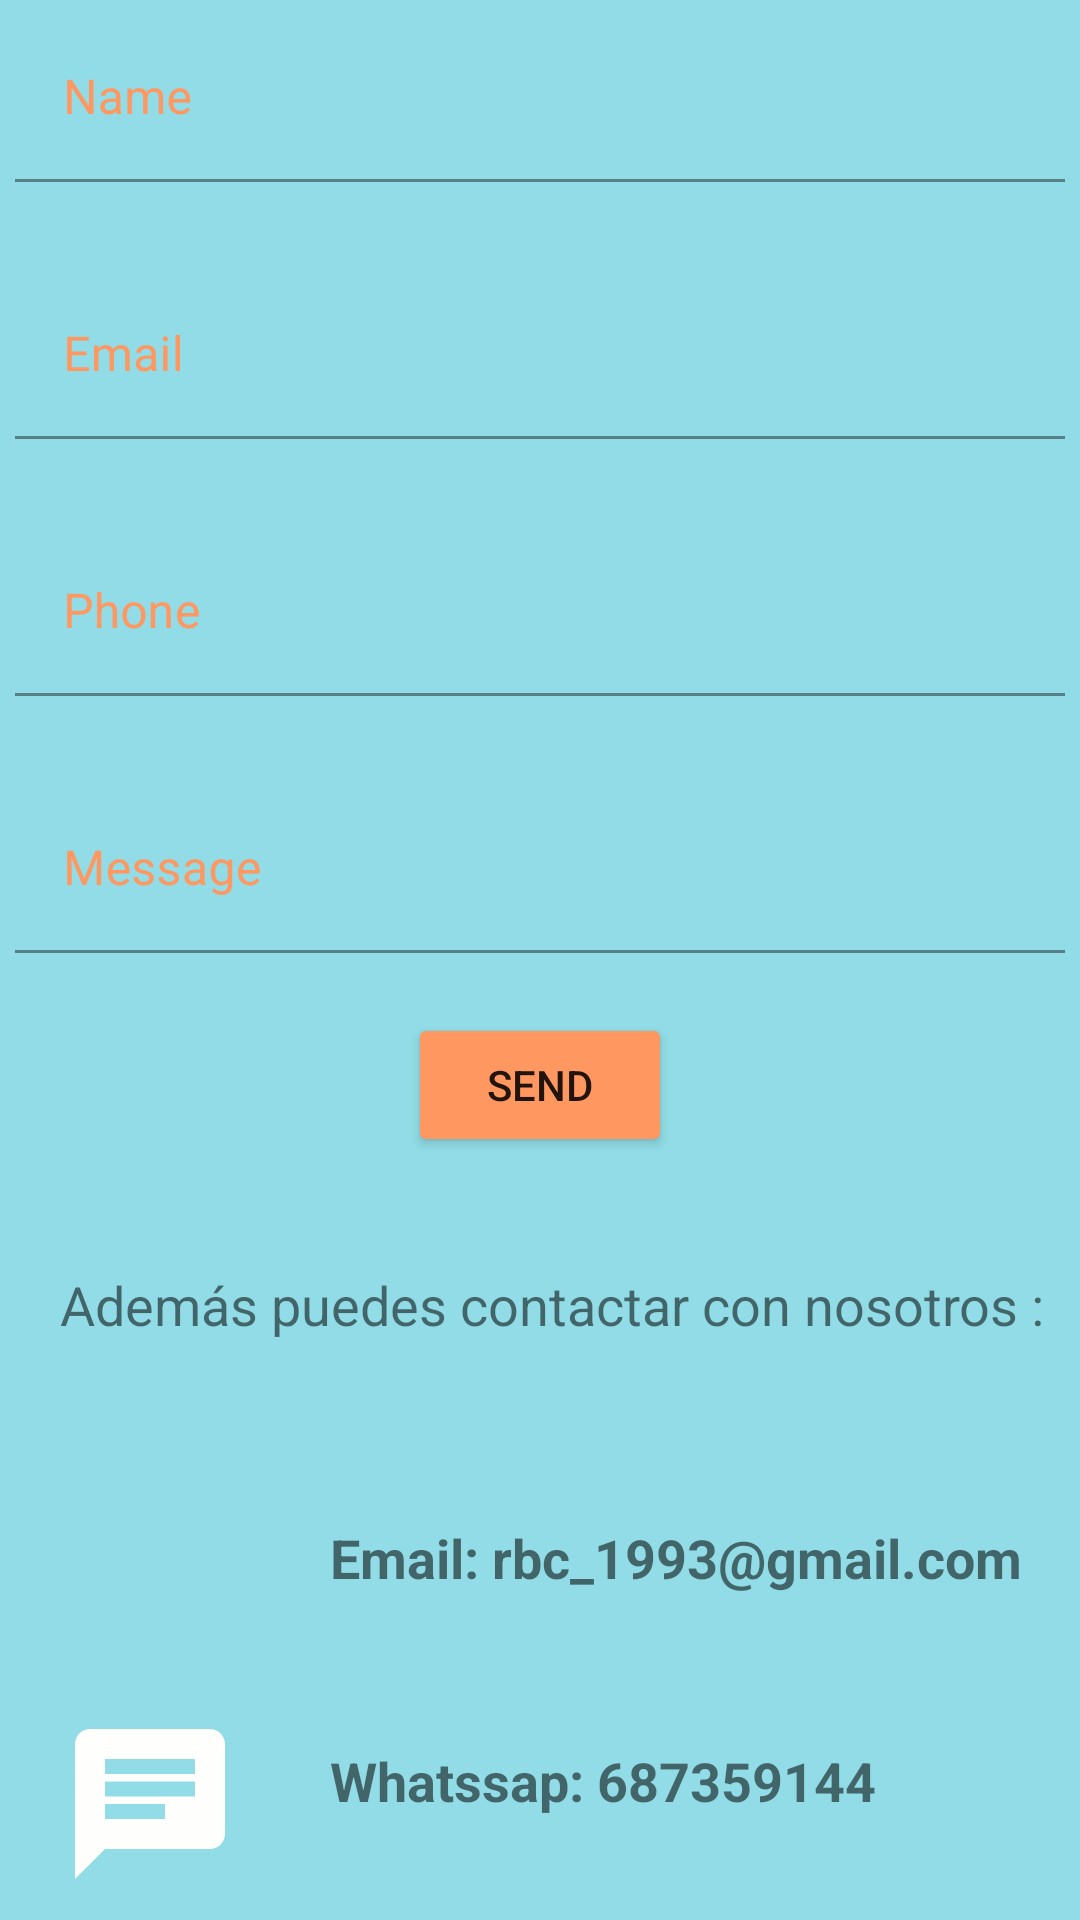

Screen size 1080px×1920px. Icon name, then its center in pixels as (x=x, y=y):
chat: (x=150, y=1804)
